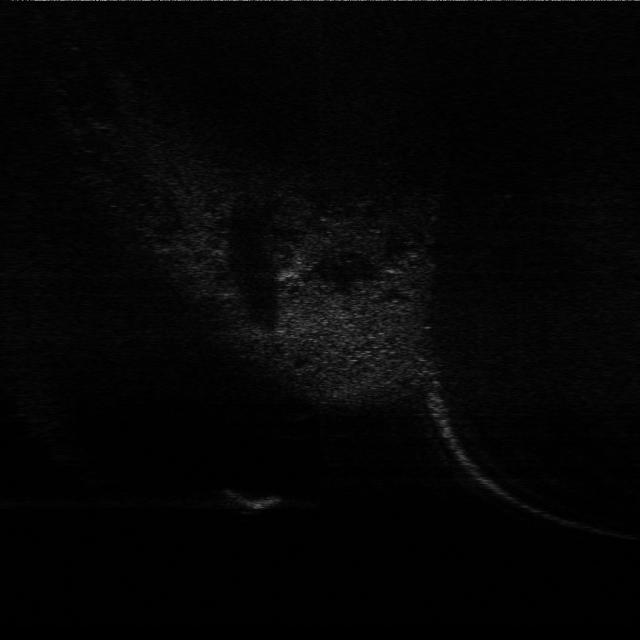square cage: (214, 480, 296, 518)
